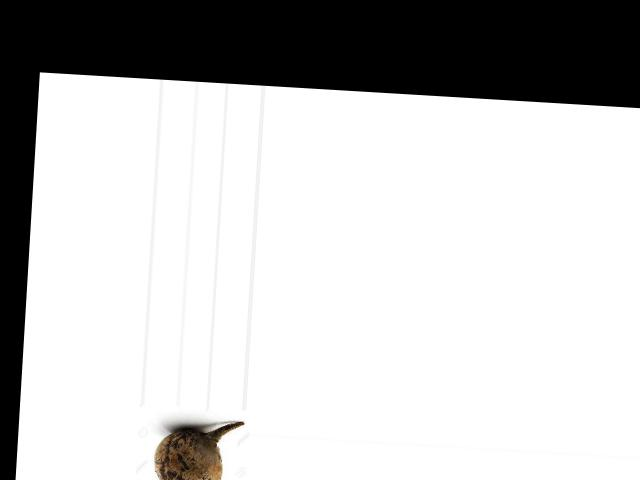beet: (151, 416, 243, 480)
